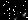person: (20, 9, 27, 20), (13, 10, 18, 20)
